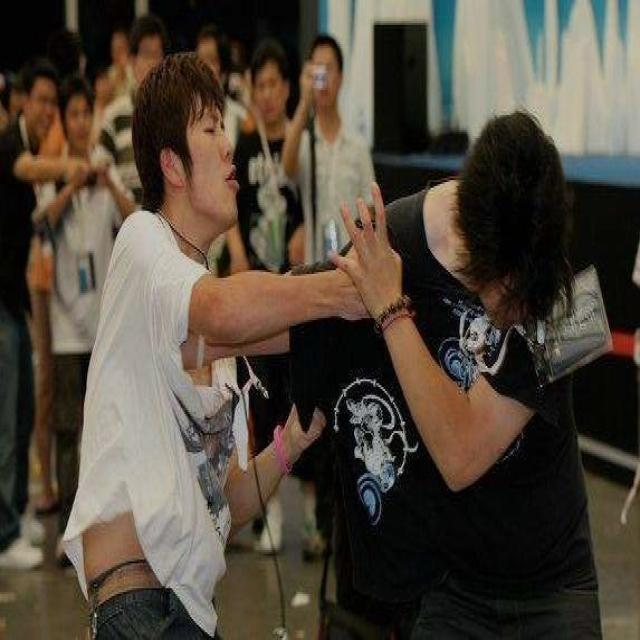fight: (71, 50, 568, 640)
